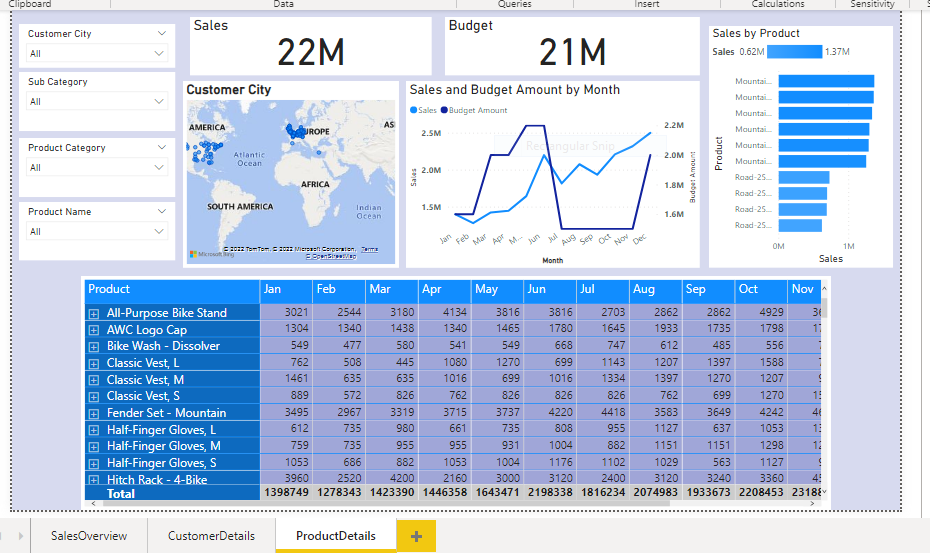

The dashboard page shown, as its layout file describes it:
{"tool":"powerbi","page":{"name":"ProductDetails","canvas":[1280,720],"ordinal":2},"visuals":[{"type":"slicer","fields":{"Values":["CUSTOMER_TABLE.Customer City"]},"box":[10.1,20.2,224.6,63.4],"z":0},{"type":"slicer","fields":{"Values":["DIM_PRODUCT.Sub Category"]},"box":[10.1,89.3,224.6,85],"z":1000},{"type":"slicer","fields":{"Values":["DIM_PRODUCT.Product Category"]},"box":[10.1,184.3,224.6,85],"z":2000},{"type":"slicer","fields":{"Values":["DIM_PRODUCT.Product Name"]},"box":[10.1,276.5,224.6,83.5],"z":3000},{"type":"map","fields":{"Category":["CUSTOMER_TABLE.Customer City"]},"box":[246.2,102.2,311,269.3],"z":4000},{"type":"pivotTable","fields":{"Values":["Key measures.Sales"],"Columns":["DATE_CALENDAR.MonthShort"],"Rows":["DIM_PRODUCT.Product Name","DIM_PRODUCT.Product Category"]},"box":[99.4,383,1080,337],"z":5000},{"type":"lineChart","fields":{"Y":["Key measures.Sales"],"Y2":["Key measures.Budget Amount"],"Category":["DATE_CALENDAR.MonthShort"]},"box":[567.4,102.2,423.4,269.3],"z":6000},{"type":"barChart","fields":{"Category":["DIM_PRODUCT.Product Name"],"Y":["Key measures.Sales"]},"box":[1003.7,23,265,348.5],"z":7000},{"type":"card","title":"Sales","fields":{"Values":["Key measures.Sales"]},"box":[256.3,10.1,348.5,83.5],"z":8000},{"type":"card","title":"Budget","fields":{"Values":["Key measures.Budget Amount"]},"box":[623.5,10.1,367.2,83.5],"z":9000}]}

Visuals, with their boxes on the page's 1280x720 design canvas (x1, y1, x2, y2). These are canvas units, not pixel positions in the 930x553 screenshot, which may show the page scaled, cropped or inside an application window:
slicer - CUSTOMER_TABLE.Customer City: rect(10, 20, 235, 84)
slicer - DIM_PRODUCT.Sub Category: rect(10, 89, 235, 174)
slicer - DIM_PRODUCT.Product Category: rect(10, 184, 235, 269)
slicer - DIM_PRODUCT.Product Name: rect(10, 276, 235, 360)
map - CUSTOMER_TABLE.Customer City: rect(246, 102, 557, 372)
pivotTable - Key measures.Sales x DATE_CALENDAR.MonthShort: rect(99, 383, 1179, 720)
lineChart - Key measures.Sales x Key measures.Budget Amount: rect(567, 102, 991, 372)
barChart - DIM_PRODUCT.Product Name x Key measures.Sales: rect(1004, 23, 1269, 372)
"Sales" card: rect(256, 10, 605, 94)
"Budget" card: rect(624, 10, 991, 94)
